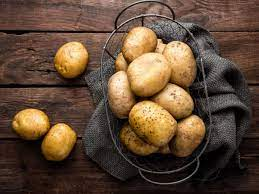potato: (126, 50, 173, 98), (129, 100, 178, 144), (53, 38, 89, 78), (42, 122, 77, 162), (12, 107, 49, 139)
